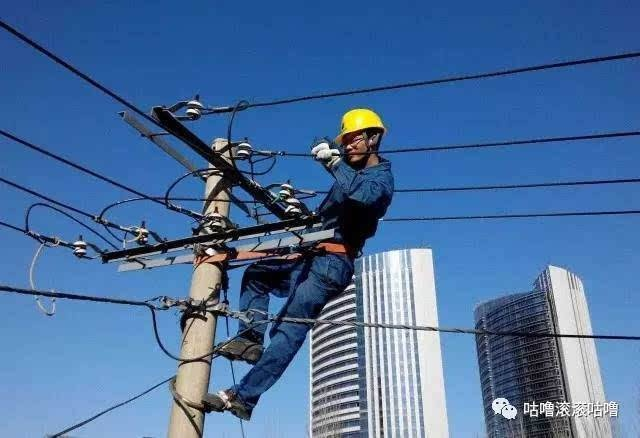yellow: (332, 104, 388, 169)
